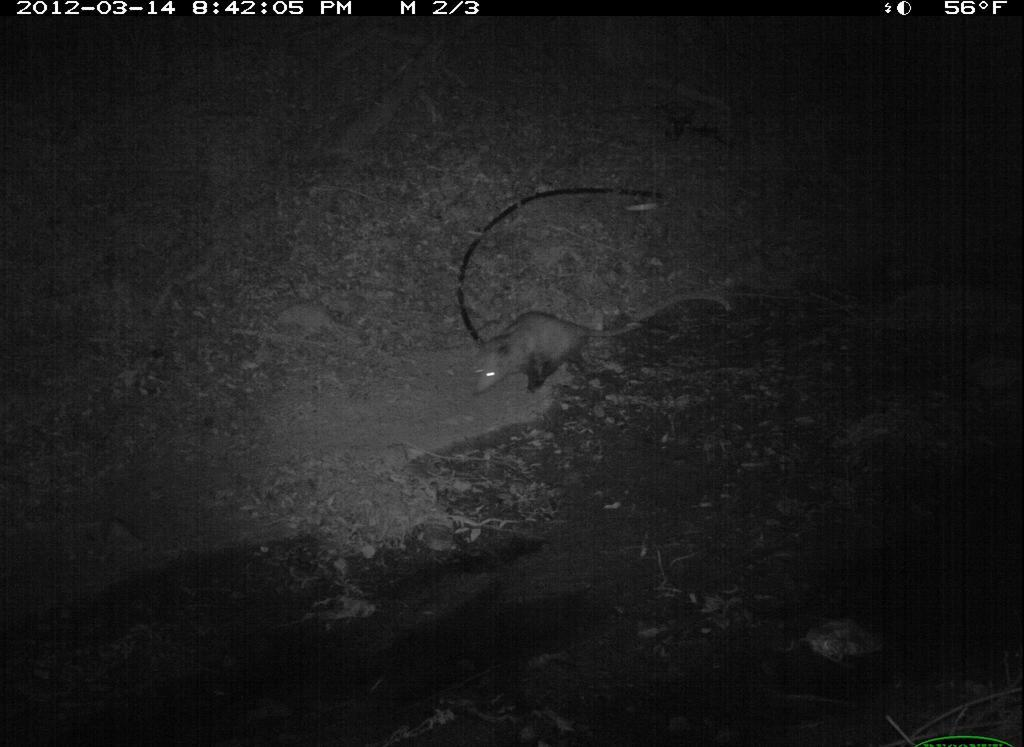opossum: (465, 309, 628, 404)
